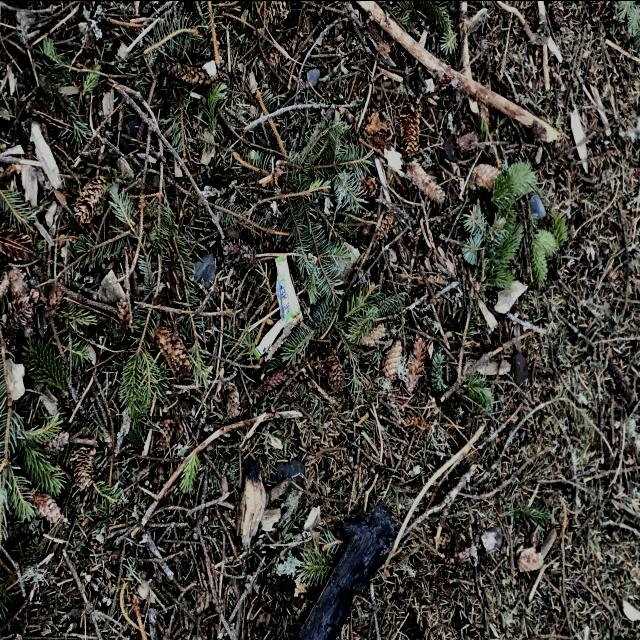Other plastic: (252, 253, 304, 360)
